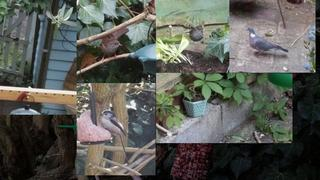dunnock: (100, 27, 129, 64)
long tailed tit: (100, 110, 129, 165)
sparrow: (185, 27, 203, 44)
wood pigeon: (246, 27, 289, 56)
